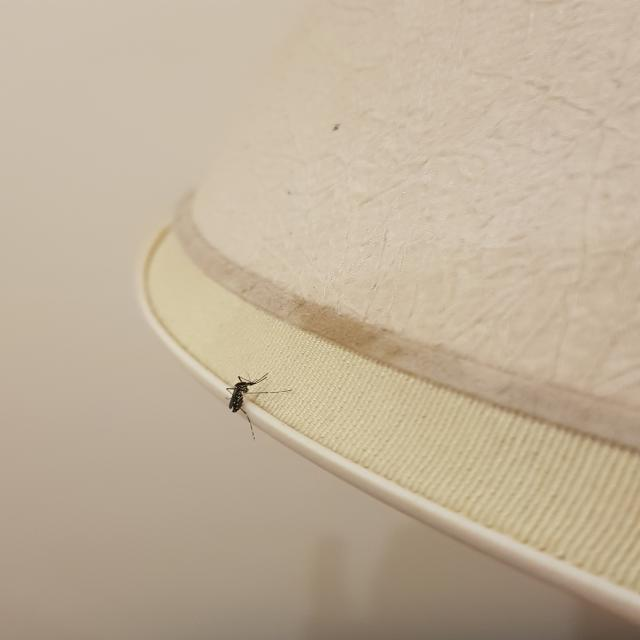albopictus: (201, 361, 301, 443)
